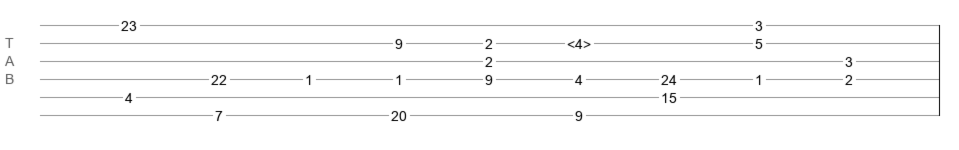1: (305, 72, 313, 82), (395, 72, 403, 82), (755, 72, 763, 82)
15: (661, 90, 677, 100)
2: (485, 54, 493, 64), (485, 36, 493, 46), (845, 72, 853, 82)
20: (391, 108, 407, 118)
22: (211, 72, 227, 82)
23: (121, 18, 137, 28)
24: (661, 72, 677, 82)
3: (755, 18, 763, 28), (845, 54, 853, 64)
4: (125, 90, 133, 100), (575, 72, 583, 82)
5: (755, 36, 763, 46)
7: (215, 108, 223, 118)
9: (395, 36, 403, 46), (485, 72, 493, 82), (575, 108, 583, 118)
harmonic: (567, 36, 591, 46)
